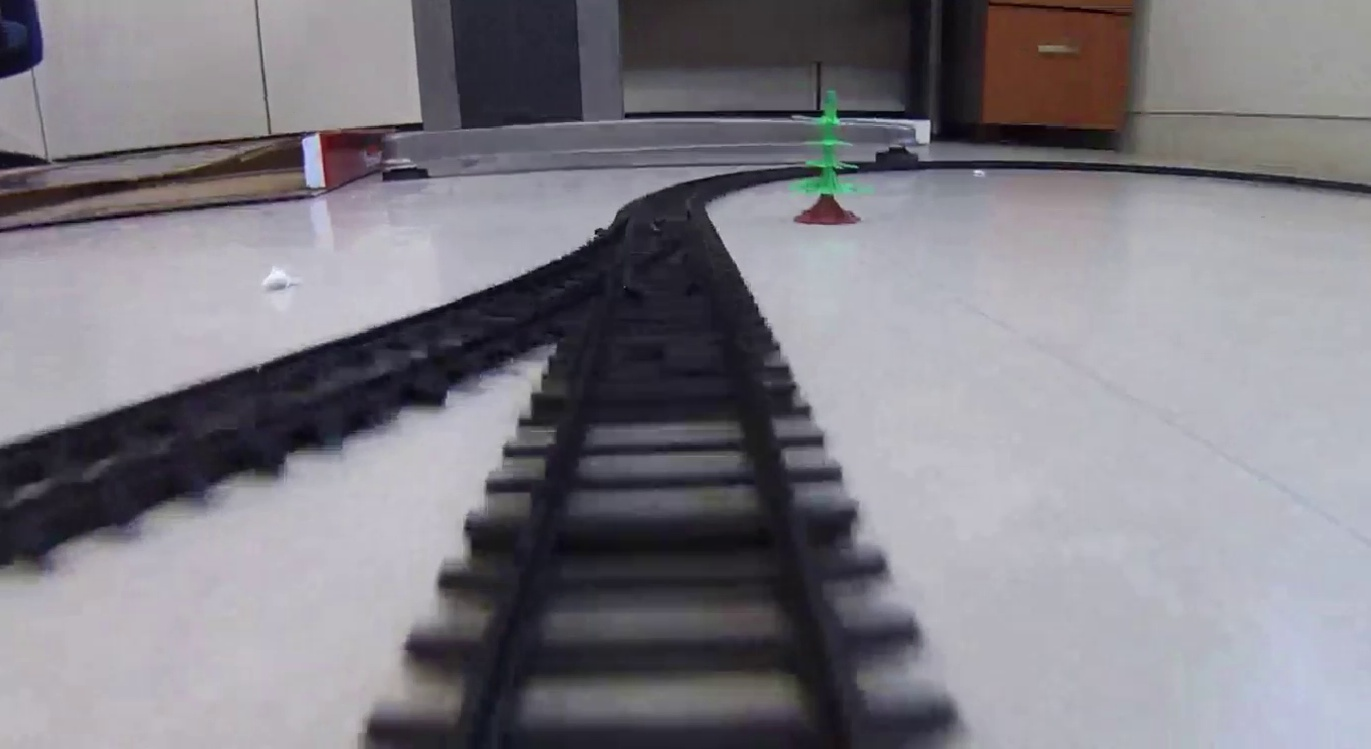tree: (789, 90, 871, 223)
